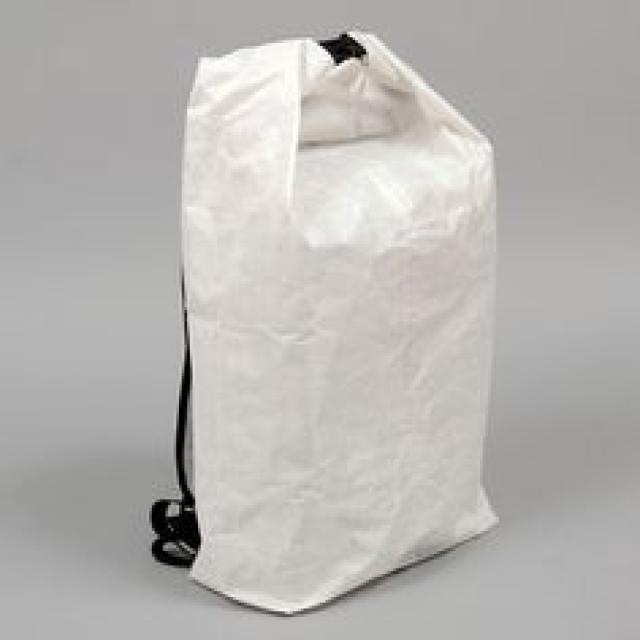backpack: (147, 27, 500, 615)
